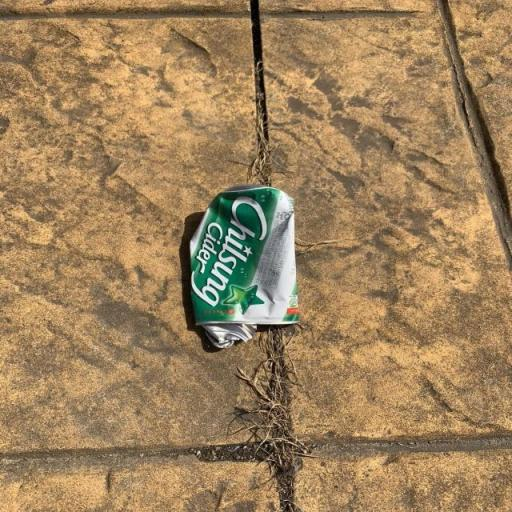metal: (170, 173, 330, 366)
